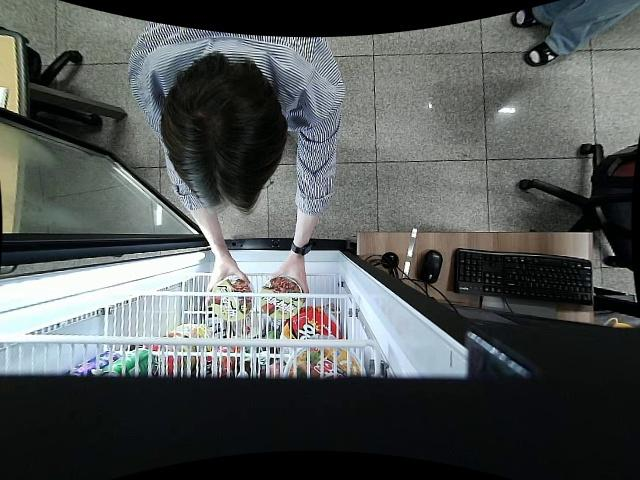00_hand: (203, 262, 252, 302), (267, 260, 309, 302)
03_chapagetti_L: (260, 278, 303, 325), (209, 279, 252, 323)
